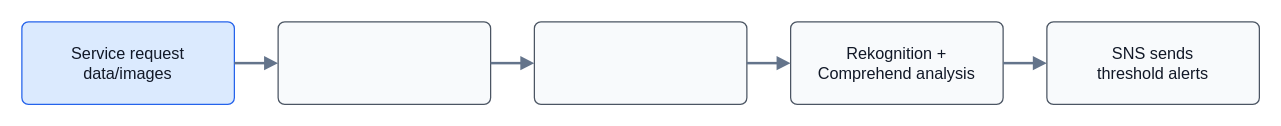
Image size: 1281x126. Some labels were removed from this diagram. Here are the shapes that lost their labels. From the top down, the centre of each, then its label:
the point at 384,62: Python Boto3 automation
the point at 640,62: S3 stores request artifacts
